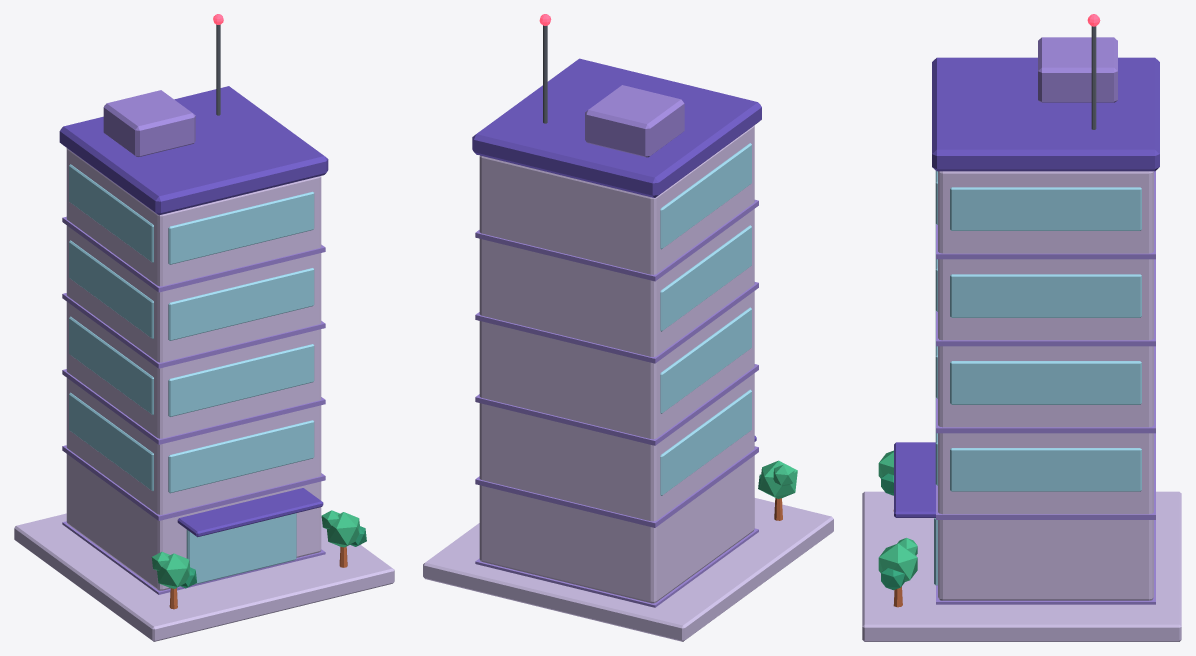
The model's file is bld_office.glb.
3 views of the same model, side by side, from view 1: azimuth 30°, elevation 25°; view 2: azimuth 150°, elevation 25°; view 3: azimuth 270°, elevation 25° (orthographic). The views are drawn at different scales.
Parts seen in each view (by area): view 1: bld_office; view 2: bld_office; view 3: bld_office.
Boxes of the visible parts, bbox=[...] form: bld_office: bbox=[14, 14, 394, 641]; bld_office: bbox=[423, 14, 833, 641]; bld_office: bbox=[862, 14, 1181, 641].
Bounding box in the file's own units: 8 × 16.19 × 8.
